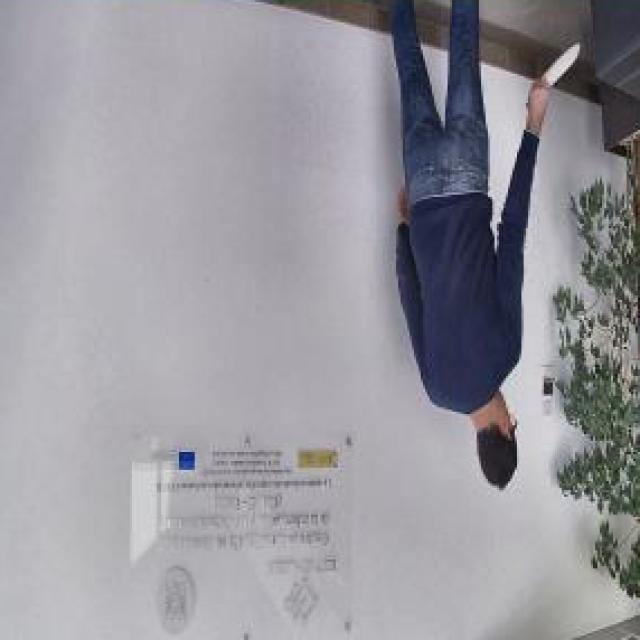knife: (521, 37, 582, 112)
